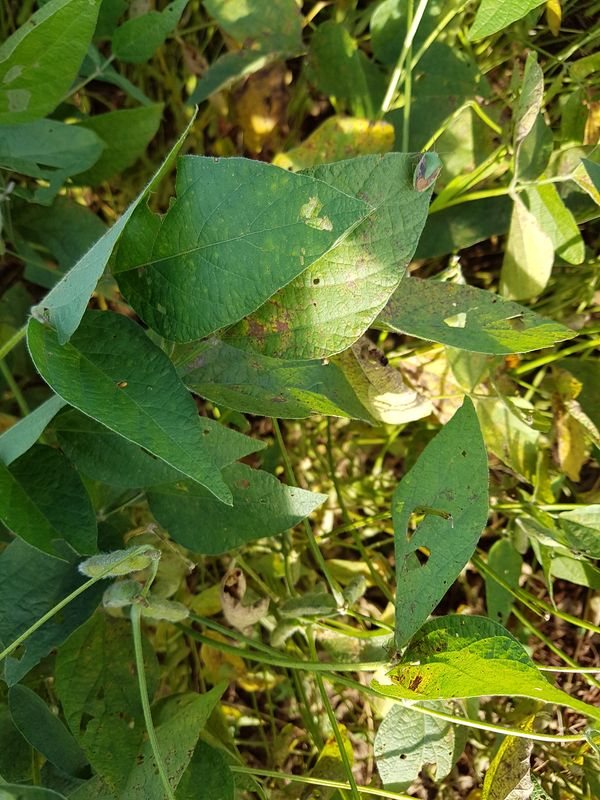Edessa_meditabunda: (404, 135, 454, 198)
